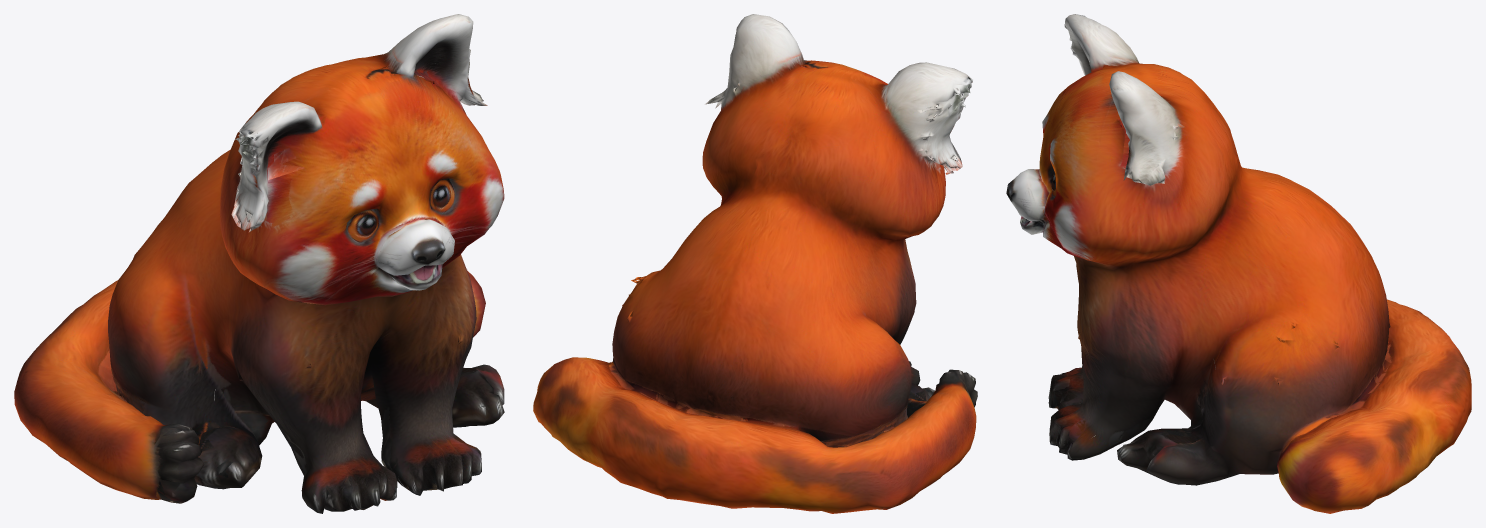
Rendered from asset.glb.
3 renders of one model, left to right at view 1: azimuth 30°, elevation 25°; view 2: azimuth 150°, elevation 25°; view 3: azimuth 270°, elevation 25°, orthographic. The views are drawn at different scales.
Bounding box in the file's own units: 1.97 × 1.81 × 1.97.
Materials: 1 (1 with a texture image).
